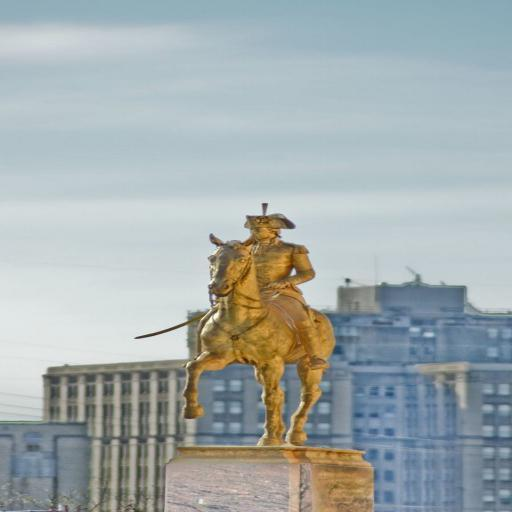horse: (185, 232, 340, 444)
